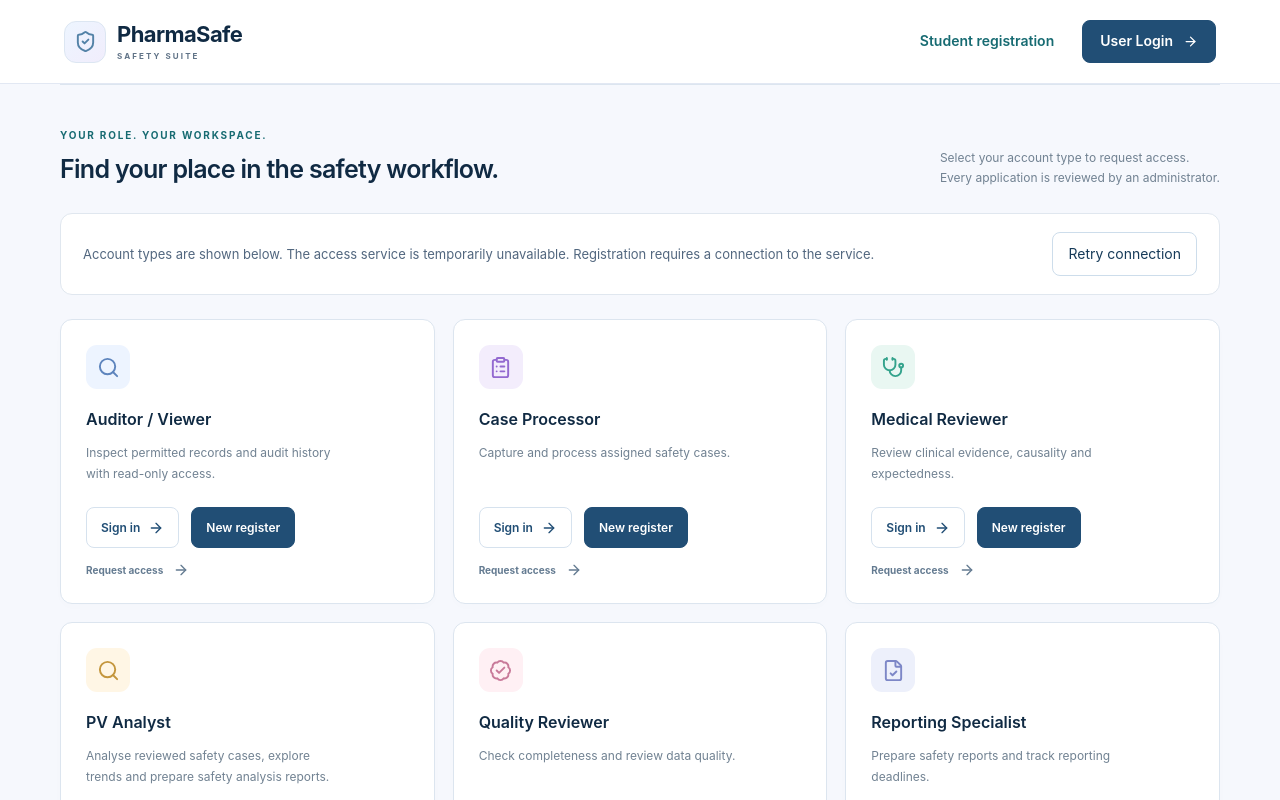
Test case: account catalogue availability › keeps cards visible on failure and retries the connection successfully
Expected: the message shows "temporarily unavailable", [83,246,874,262]
Click the button "Retry connection".
click(1125, 254)  # box [1052,232,1197,276]
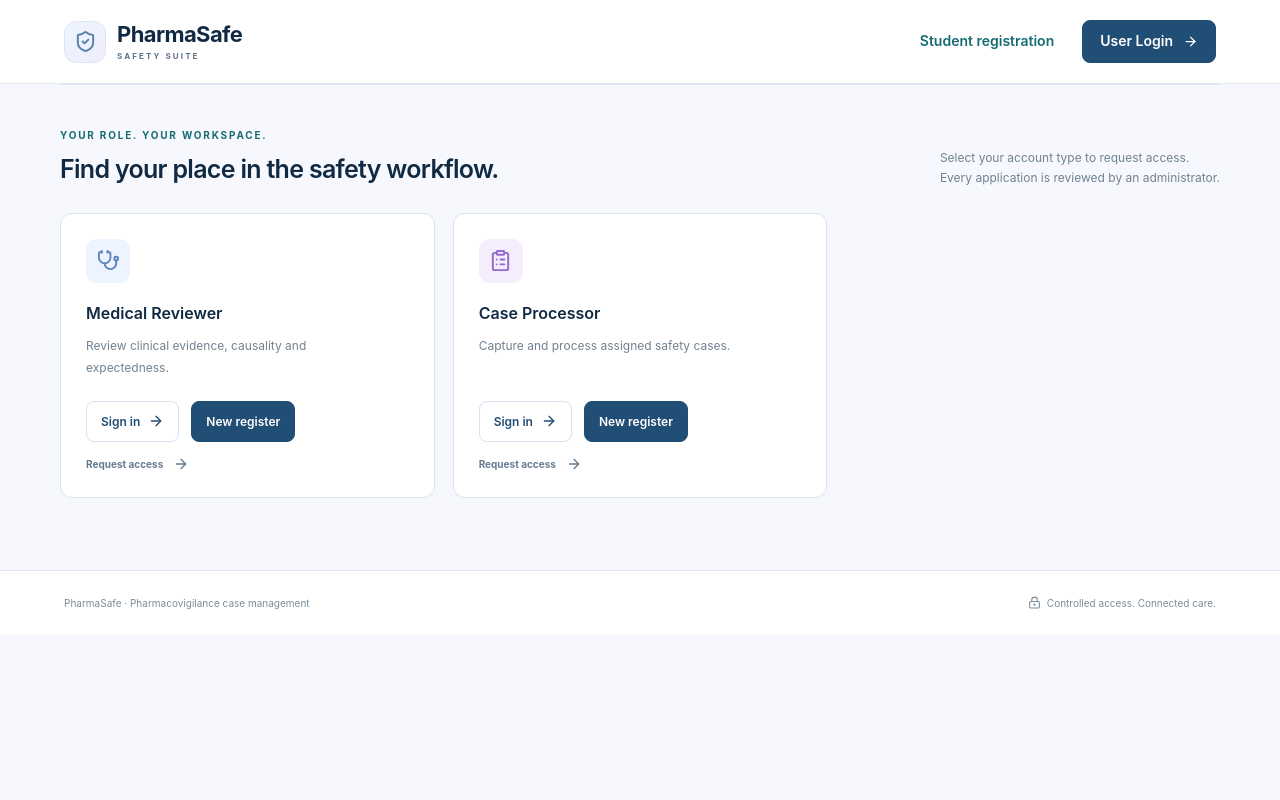
Now the text "temporarily unavailable" is gone
Now the number of buttons named "Request access as" is 2, box [86,456,189,472]; [479,456,582,472]
